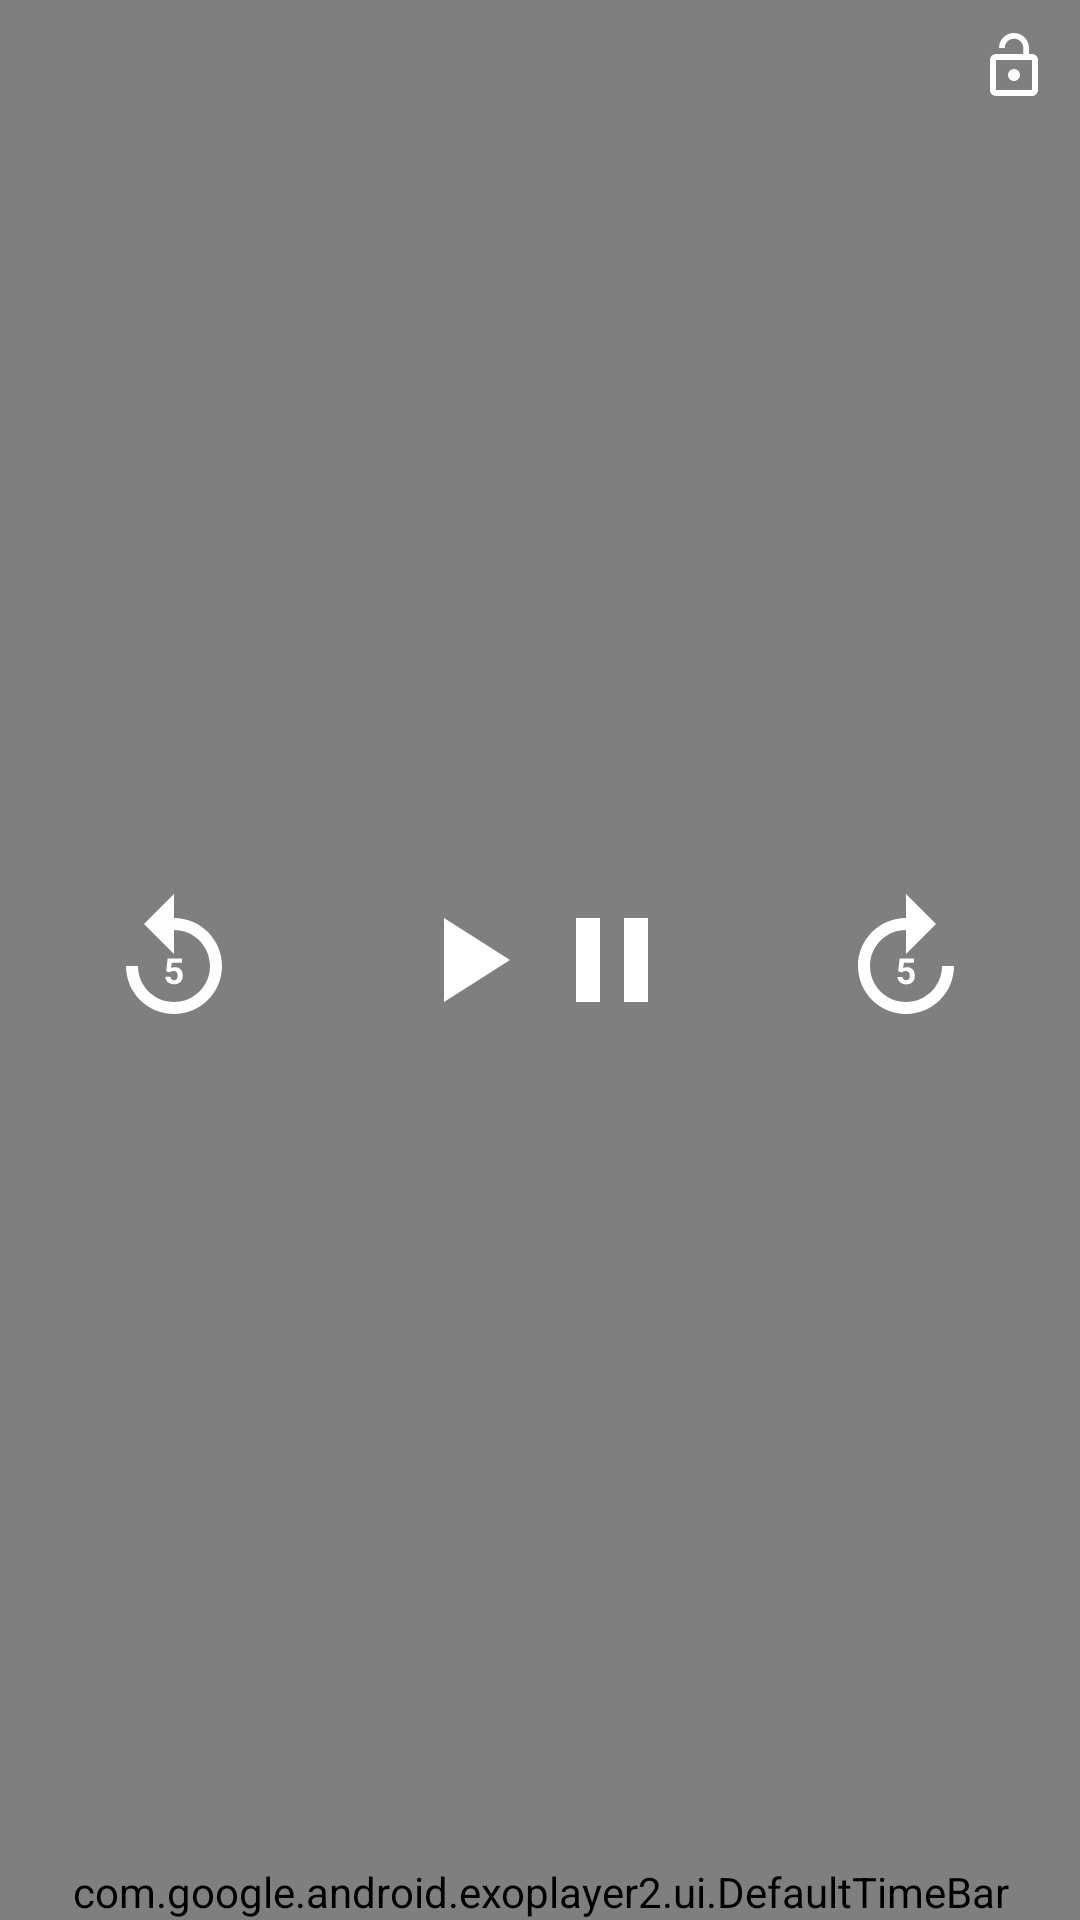

Icon bounding boxes for this 1080 × 1920 phone screenshot, format (x1, y1, x2, y2):
forward: (858, 894, 954, 1014)
lock open: (990, 33, 1038, 96)
pause: (576, 918, 648, 1002)
play arrow: (444, 918, 510, 1002)
replay: (126, 894, 222, 1014)
